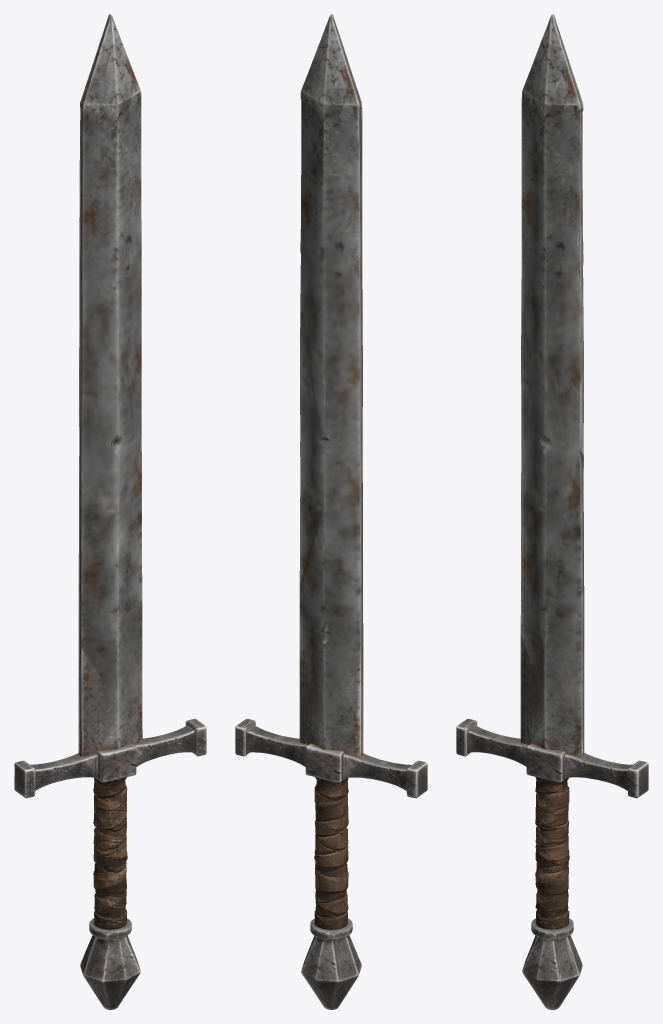
The model's file is GRS024_Remesh_10k.fbx.
3 renders of one model, left to right at view 1: azimuth 30°, elevation 25°; view 2: azimuth 150°, elevation 25°; view 3: azimuth 330°, elevation 25°, orthographic.
Visible parts, largest first — view 1: output_unwrapped; view 2: output_unwrapped; view 3: output_unwrapped.
Boxes of the visible parts, <box> form: output_unwrapped: <box>14,14,206,1009</box>; output_unwrapped: <box>235,14,427,1009</box>; output_unwrapped: <box>456,14,648,1009</box>.
Size of the model in its own units: 36.53 by 190 by 10.86.
Materials: 1 (1 with a texture image).
